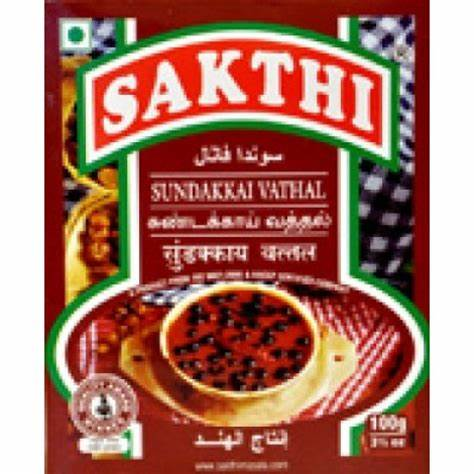VEG: (57, 17, 92, 51)
